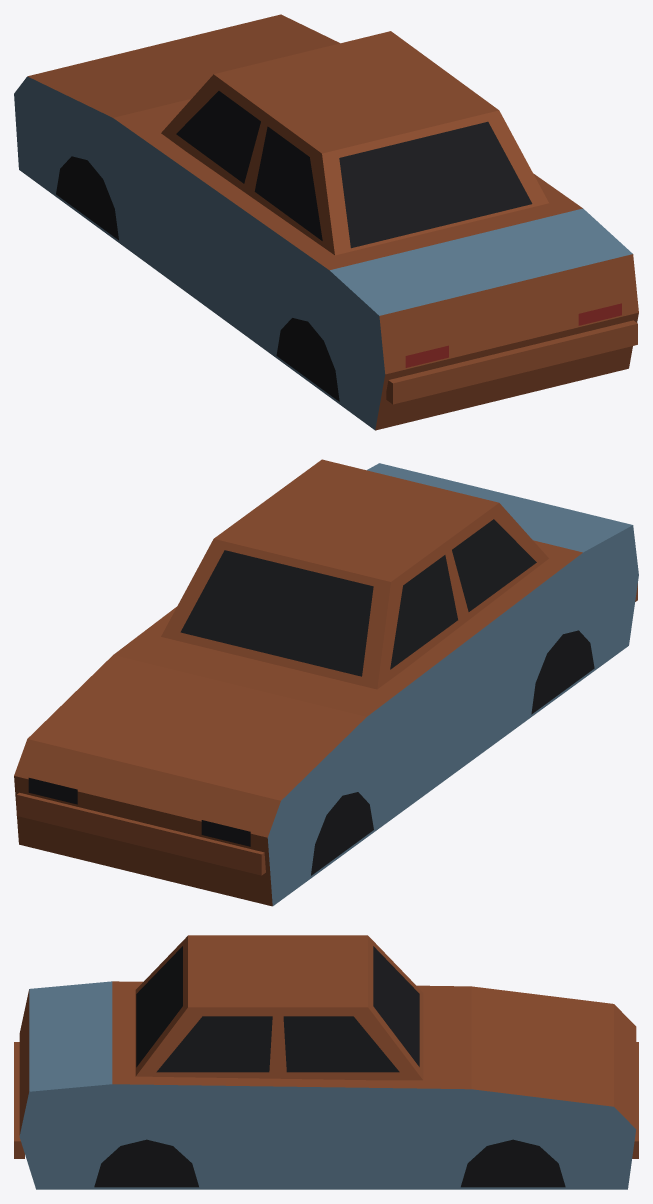
The model's file is wreck_car.glb.
3 views of the same model, one above another, from view 1: azimuth 30°, elevation 25°; view 2: azimuth 150°, elevation 25°; view 3: azimuth 270°, elevation 25° (orthographic). The views are drawn at different scales.
Parts seen in each view (by area): view 1: wreck_car__mesh; view 2: wreck_car__mesh; view 3: wreck_car__mesh.
Boxes of the visible parts, left/top/right/bottom form: wreck_car__mesh: left=14, top=14, right=638, bottom=430; wreck_car__mesh: left=14, top=459, right=638, bottom=906; wreck_car__mesh: left=14, top=935, right=638, bottom=1189.
Bounding box in the file's own units: 1.77 × 1.33 × 4.52.
Materials: 1 (1 with a texture image).
